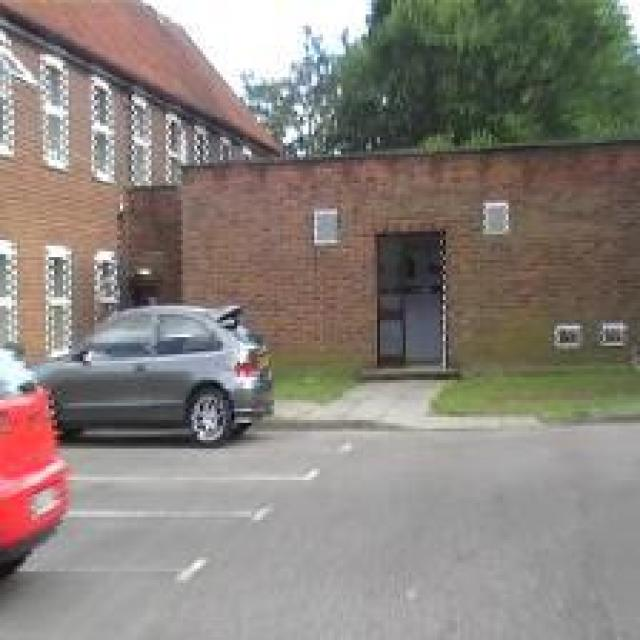other: (1, 324, 72, 549)
